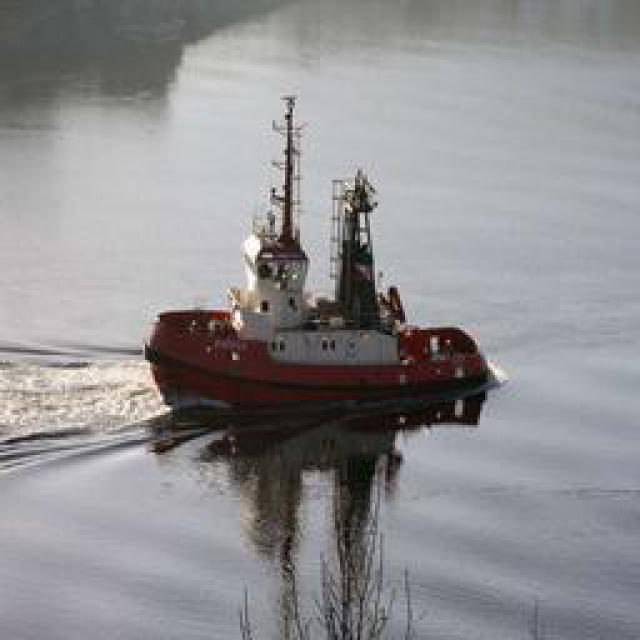Ship: (141, 78, 501, 416)
